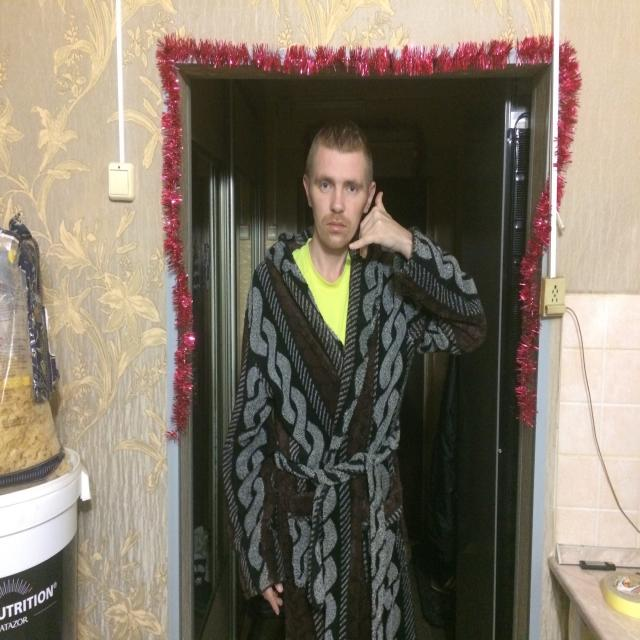call: (347, 188, 402, 262)
